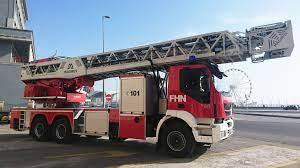Fire-engine: (9, 42, 269, 158)
